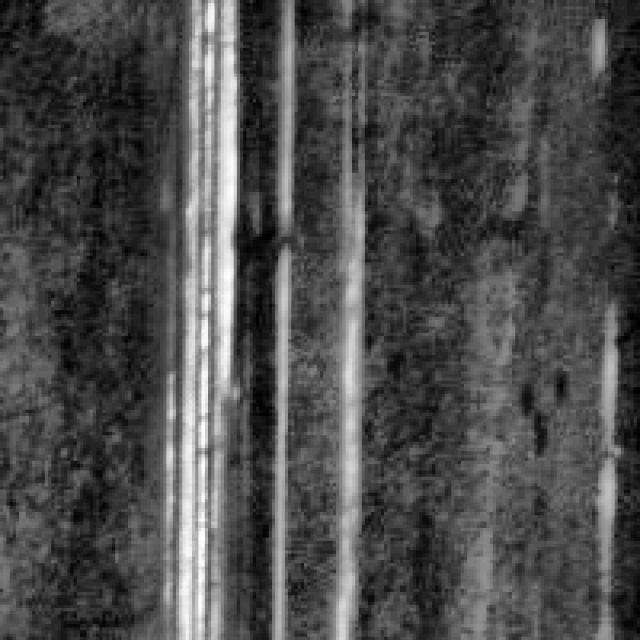Inclusion: (144, 0, 256, 637), (323, 205, 371, 637)
